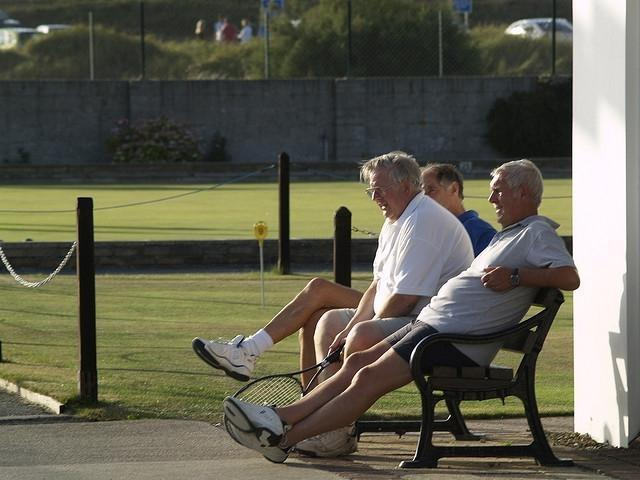car: (504, 17, 573, 36)
